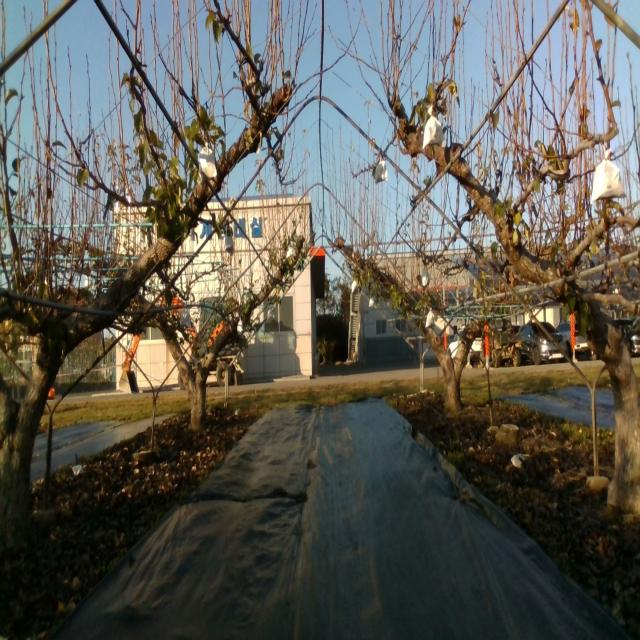pearbags: (590, 148, 627, 205), (423, 106, 445, 150), (198, 142, 218, 184), (374, 158, 388, 183), (180, 307, 191, 328), (426, 306, 436, 328)
